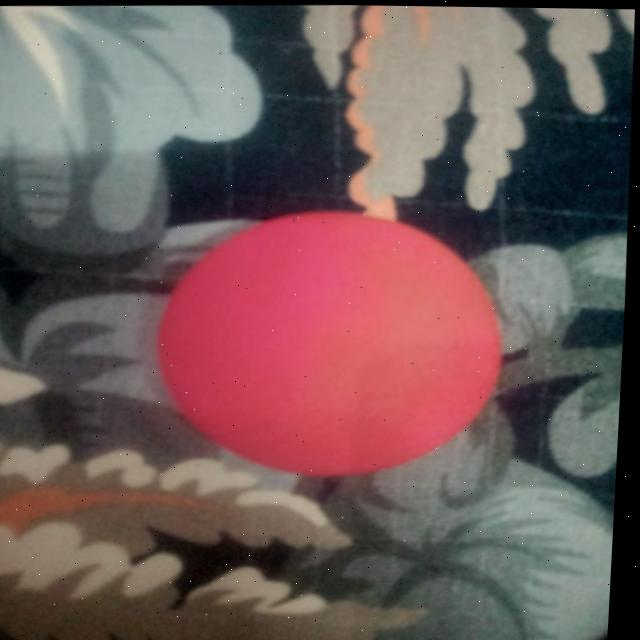beauty blender: (132, 227, 519, 451)
